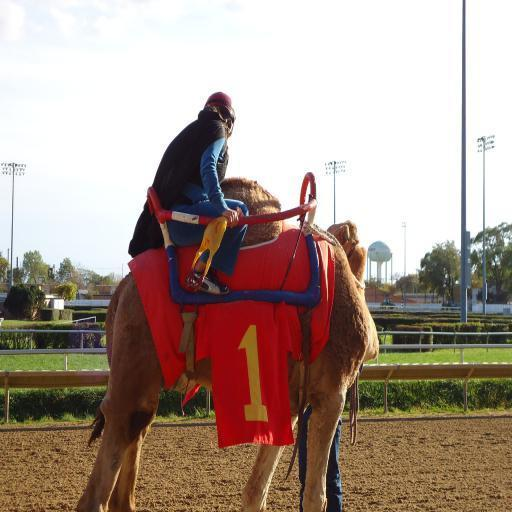horse: (73, 220, 379, 512)
